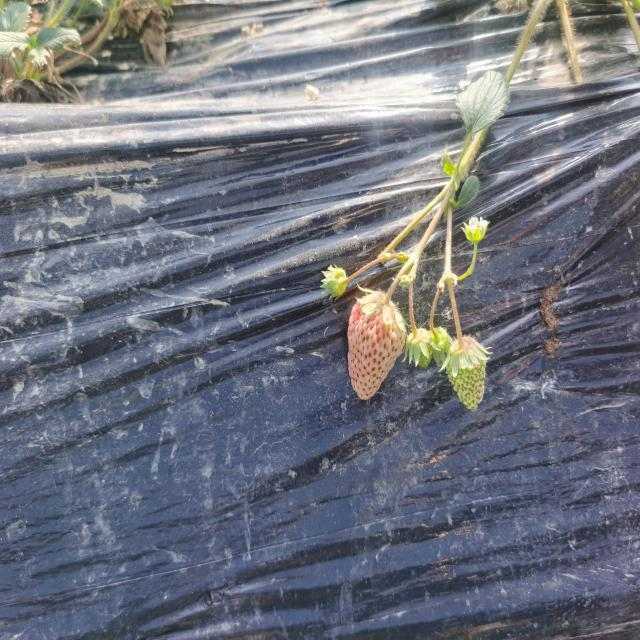stem: (382, 273, 402, 307)
strawberry: (347, 292, 406, 400)
